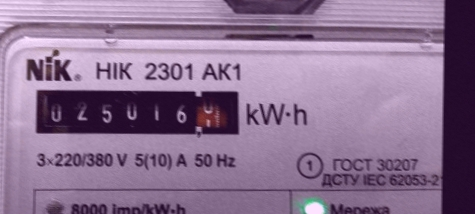0: (125, 98, 140, 121), (49, 101, 63, 123), (201, 94, 214, 114)
1: (150, 98, 162, 123), (203, 117, 211, 128)
2: (75, 98, 89, 122)
5: (100, 102, 112, 123)
6: (174, 101, 188, 126)
screen: (26, 79, 249, 143)
